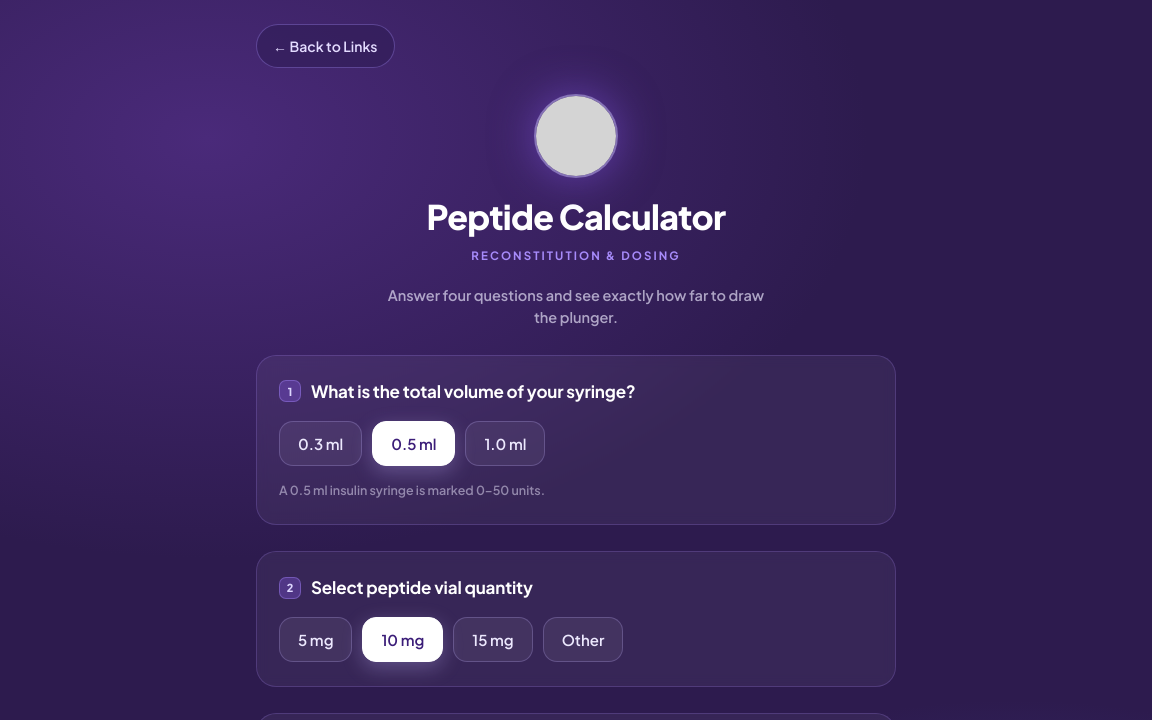
it: PeptideCalculator — reading a dose › restates the barrel markings when a different syringe is chosen
Expected: the text "A 0.5 ml insulin syringe is marked 0–50 units." is shown, [279,482,545,498]
Click the radio button labelled "1.0 ml".
click(505, 443)  # box [466,421,545,466]
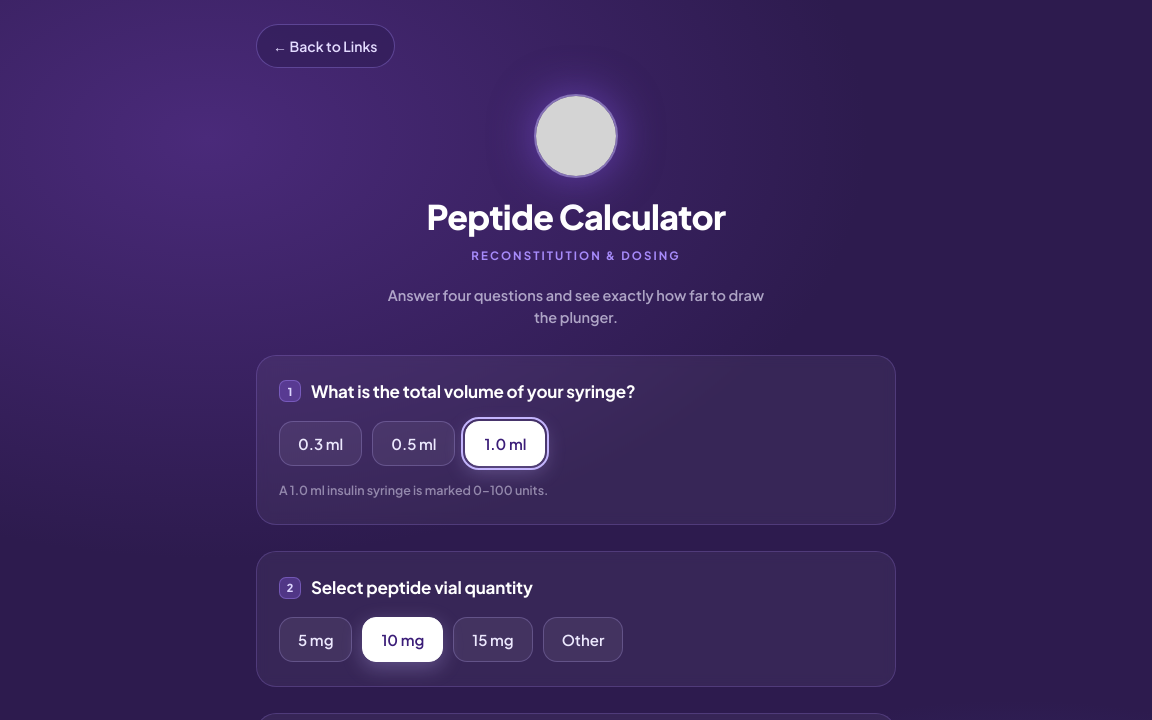
Expected: the text "A 1.0 ml insulin syringe is marked 0–100 units." is shown, [279,482,548,498]
